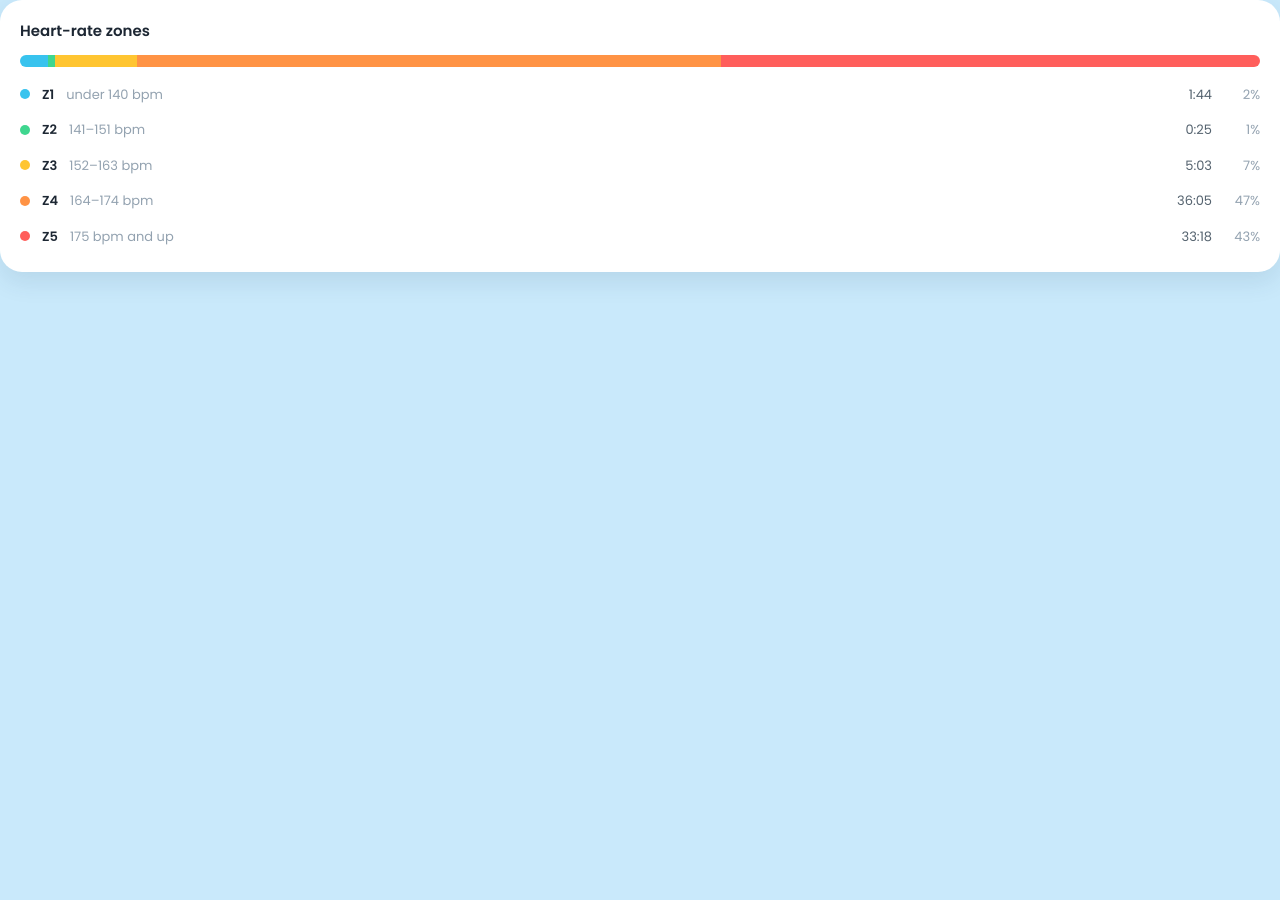
Scenario: ZoneBar — the zone sheet › zone 1 has no floor and says so in words — never a blank box inviting a bound
Step 1. Click the button with aria-label "Edit zone 1" → (115, 94), box [20, 78, 1260, 110]
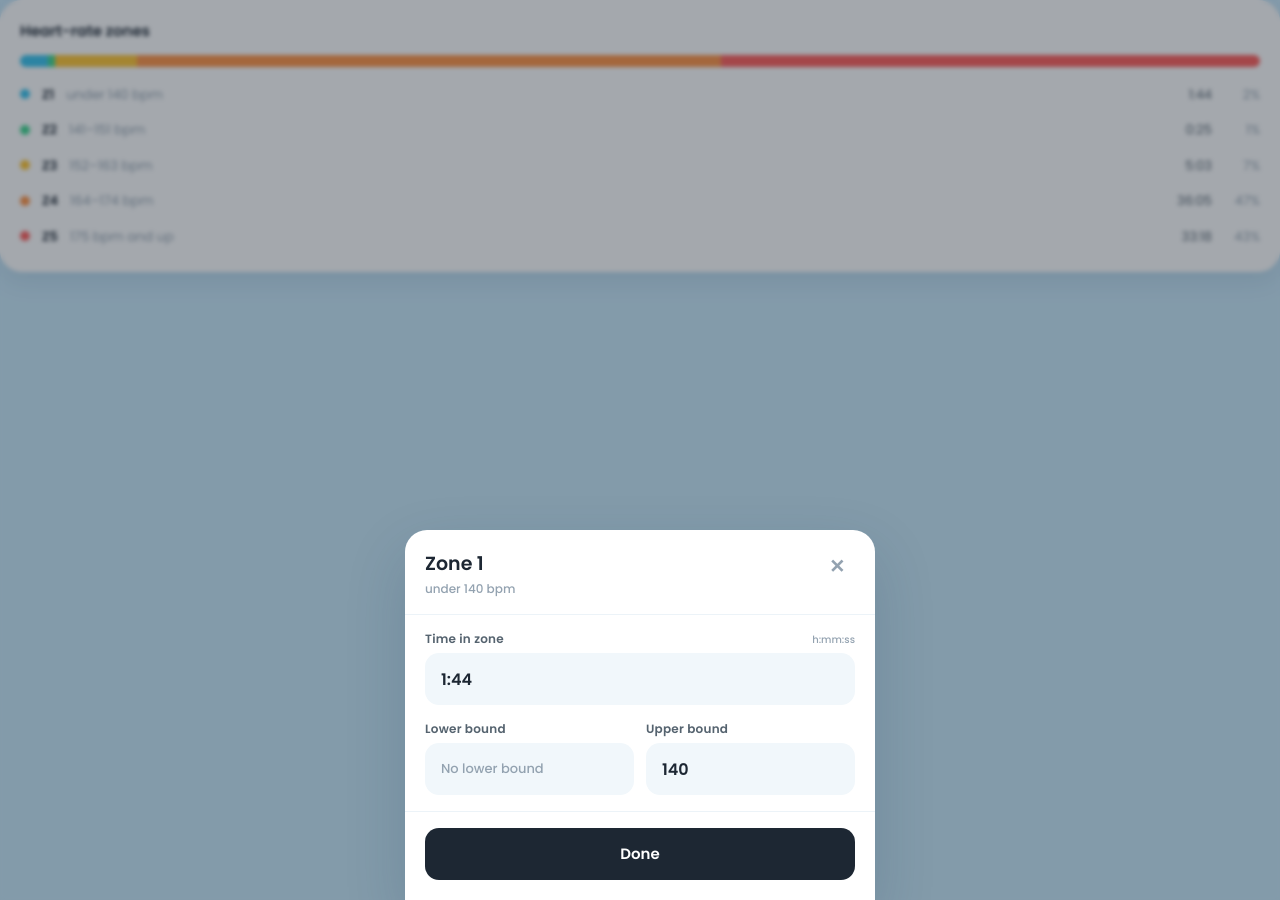
Check: the text "No lower bound" is shown, box [425, 743, 634, 795]
Check: the field named "Zone 1 upper bound in beats per minute" holds "140", box [646, 743, 855, 795]
